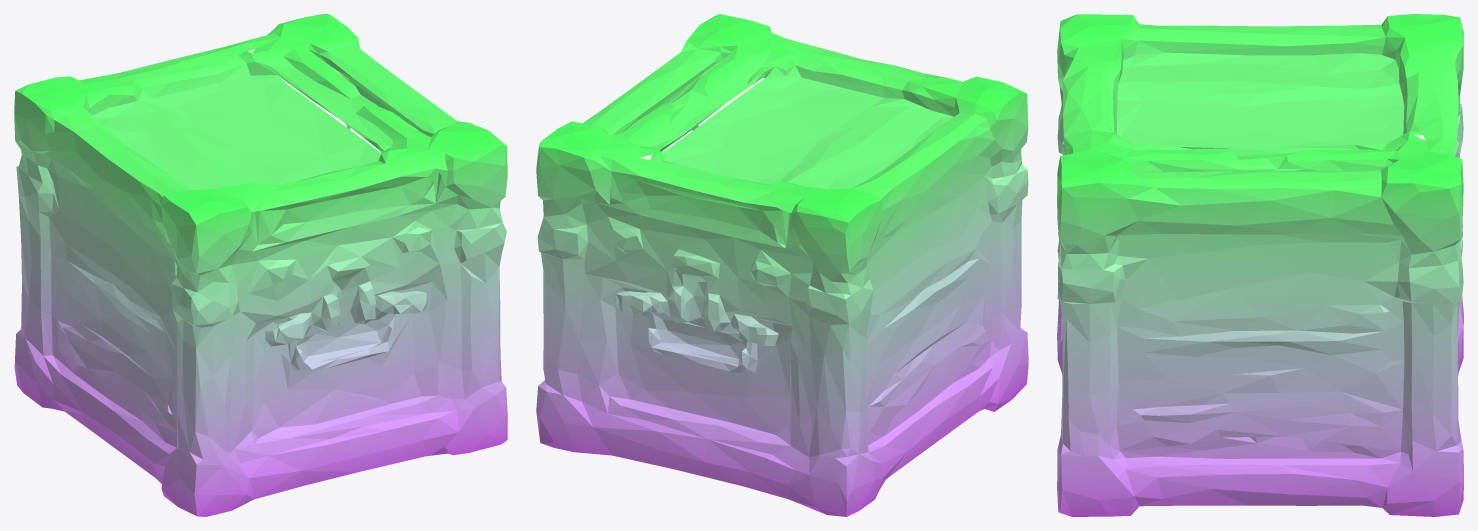
File: 140_cyb_laser_gradient_fish_scales_2959_2026_10_03_7f36c6.glb
3 renders of one model, left to right at view 1: azimuth 30°, elevation 25°; view 2: azimuth 150°, elevation 25°; view 3: azimuth 270°, elevation 25°, orthographic. The views are drawn at different scales.
Visible parts, largest first — view 1: geometry_0; view 2: geometry_0; view 3: geometry_0.
Part boxes in pixels (<box>): geometry_0: <box>14,14,507,516</box>; geometry_0: <box>536,14,1028,516</box>; geometry_0: <box>1057,14,1463,516</box>.
Size of the model in its own units: 0.9978 by 0.9216 by 1.
